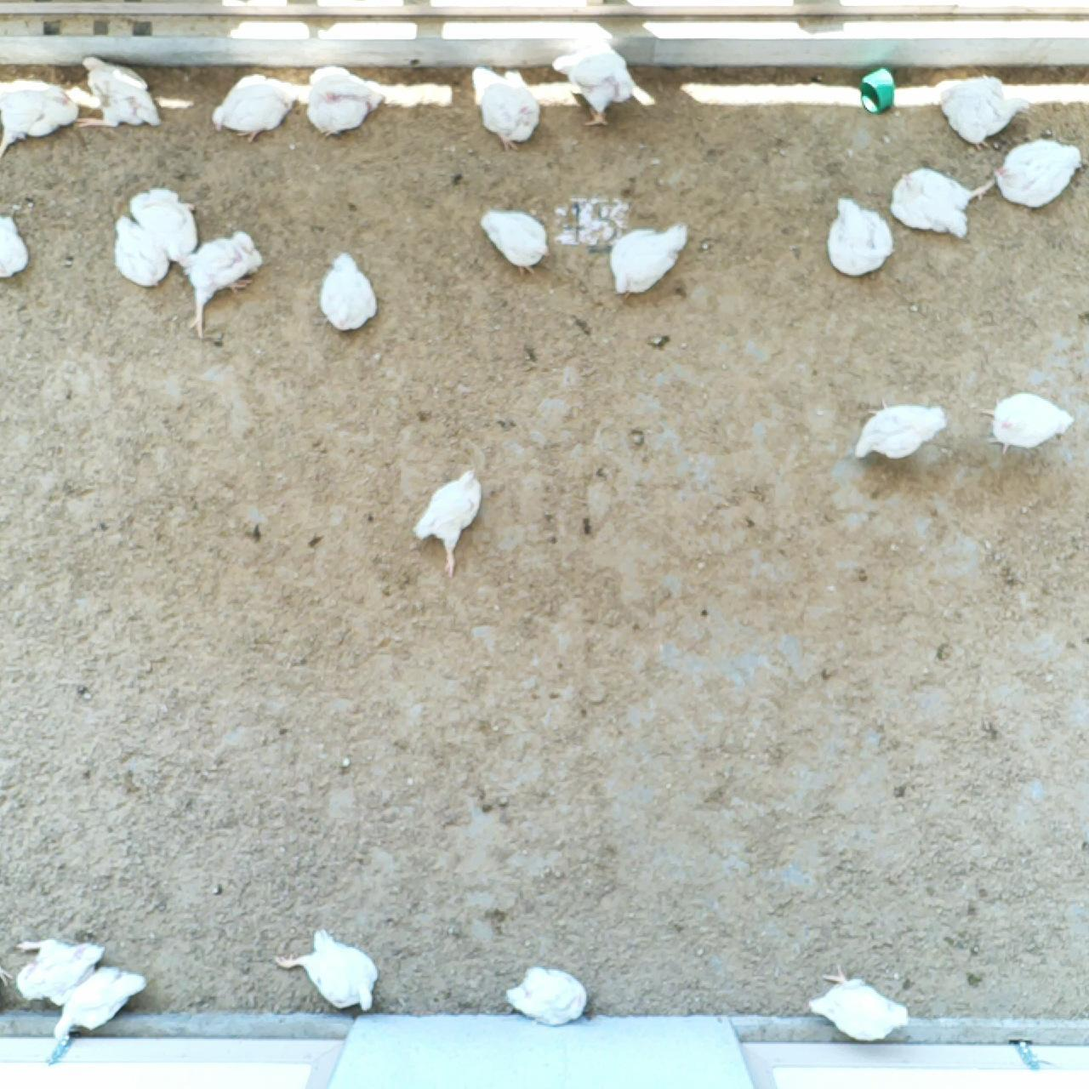chicken: (274, 925, 387, 1015), (805, 955, 914, 1047), (184, 232, 265, 337), (47, 961, 147, 1046), (548, 42, 638, 131), (890, 165, 997, 238), (414, 468, 484, 578), (69, 53, 164, 133), (934, 71, 1031, 149), (601, 219, 692, 301), (10, 932, 102, 1011), (992, 136, 1084, 210), (469, 64, 544, 150), (212, 69, 300, 142), (852, 402, 948, 467), (301, 63, 381, 141), (825, 197, 898, 282), (0, 75, 77, 153), (508, 963, 595, 1030), (984, 393, 1074, 456), (127, 186, 201, 262), (478, 205, 551, 277), (320, 253, 379, 333), (110, 210, 169, 287), (0, 212, 31, 280)
